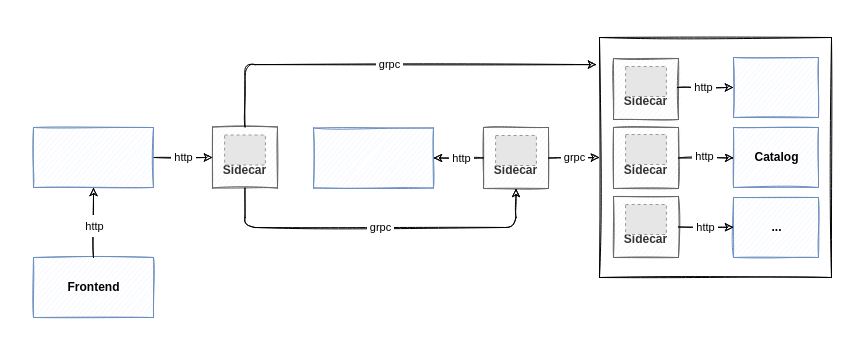
The diagram is 864 pixels wide and 352 high, and some of its shapes have lost their labels. Grey dashed boxes stand in for pictures. Here are the shapes that lost their labels. From the top down, the centre of each, then its label:
(775,87): Basket
(93,157): API Gateway (Envoy)
(373,157): Web shopping aggregator
